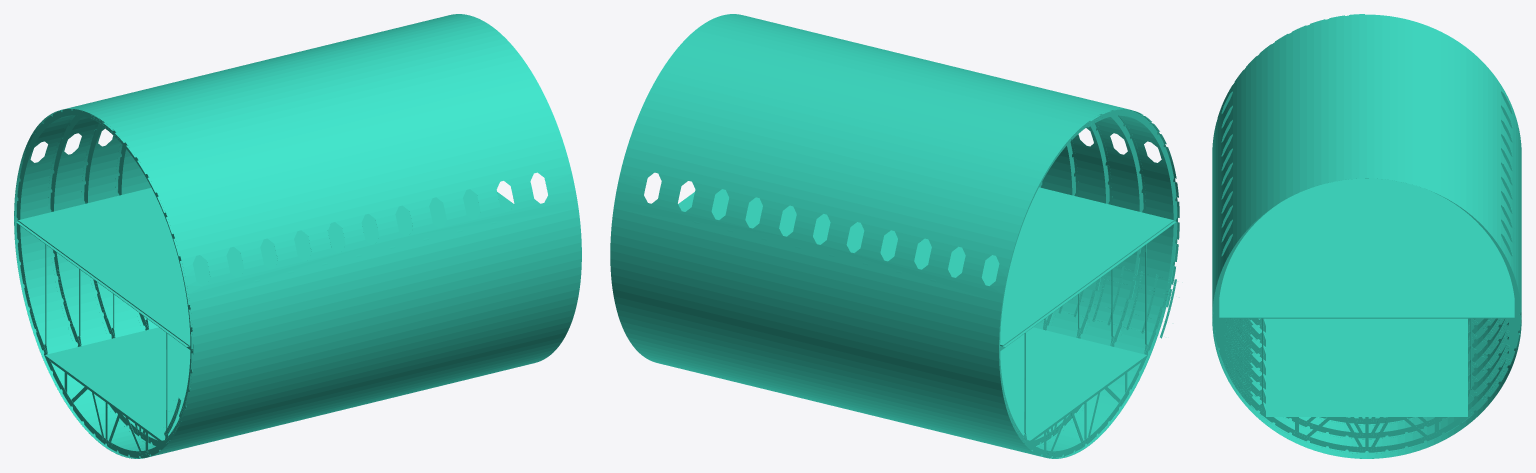
Rendered from airb_fuselage.glb.
3 views of the same model, side by side, from view 1: azimuth 30°, elevation 25°; view 2: azimuth 150°, elevation 25°; view 3: azimuth 270°, elevation 25° (orthographic). The views are drawn at different scales.
Parts seen in each view (by area): view 1: imagetostl_mesh0_mat0_0; view 2: imagetostl_mesh0_mat0_0; view 3: imagetostl_mesh0_mat0_0.
Part boxes in pixels (x1,y1,x2,y2): imagetostl_mesh0_mat0_0: (14, 14, 581, 458); imagetostl_mesh0_mat0_0: (610, 14, 1179, 458); imagetostl_mesh0_mat0_0: (1212, 14, 1521, 458).
Bounding box in the file's own units: 7813 × 5973 × 5971.
